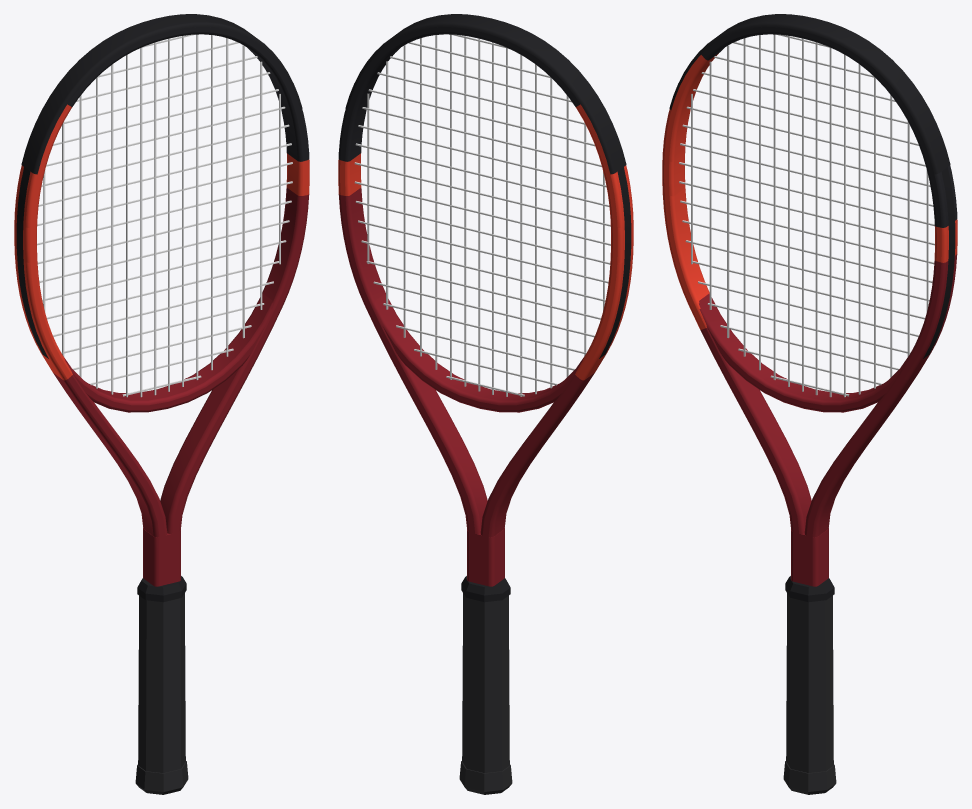
Rendered from dunlop-cx-400-tour-2024.glb.
3 views of the same model, side by side, from view 1: azimuth 30°, elevation 25°; view 2: azimuth 150°, elevation 25°; view 3: azimuth 330°, elevation 25° (orthographic).
Parts seen in each view (by area): view 1: frame, strings_mains, strings_crosses, grip, bumper, grommets, butt_cap, collar; view 2: frame, strings_mains, strings_crosses, grip, bumper, grommets, butt_cap, collar; view 3: frame, strings_mains, strings_crosses, grip, bumper, grommets, butt_cap, collar.
Part boxes in pixels (left/top/right/bottom): frame: left=14, top=27, right=309, bottom=586; strings_mains: left=43, top=34, right=280, bottom=397; strings_crosses: left=37, top=34, right=292, bottom=396; grip: left=138, top=593, right=185, bottom=772; bumper: left=21, top=14, right=302, bottom=174; grommets: left=16, top=167, right=48, bottom=358; butt_cap: left=135, top=761, right=188, bottom=794; collar: left=137, top=576, right=186, bottom=602; frame: left=338, top=27, right=633, bottom=586; strings_mains: left=367, top=34, right=604, bottom=396; strings_crosses: left=354, top=34, right=610, bottom=396; grip: left=462, top=593, right=509, bottom=772; bumper: left=345, top=14, right=626, bottom=174; grommets: left=599, top=167, right=631, bottom=358; butt_cap: left=459, top=761, right=512, bottom=794; collar: left=461, top=576, right=510, bottom=602; frame: left=662, top=27, right=957, bottom=586; strings_mains: left=691, top=34, right=928, bottom=397; strings_crosses: left=679, top=34, right=934, bottom=396; grip: left=786, top=593, right=833, bottom=772; bumper: left=669, top=14, right=950, bottom=174; grommets: left=923, top=167, right=955, bottom=358; butt_cap: left=783, top=761, right=836, bottom=794; collar: left=785, top=576, right=834, bottom=602.
Bounding box in the file's own units: 0.2677 × 0.6861 × 0.0377.
